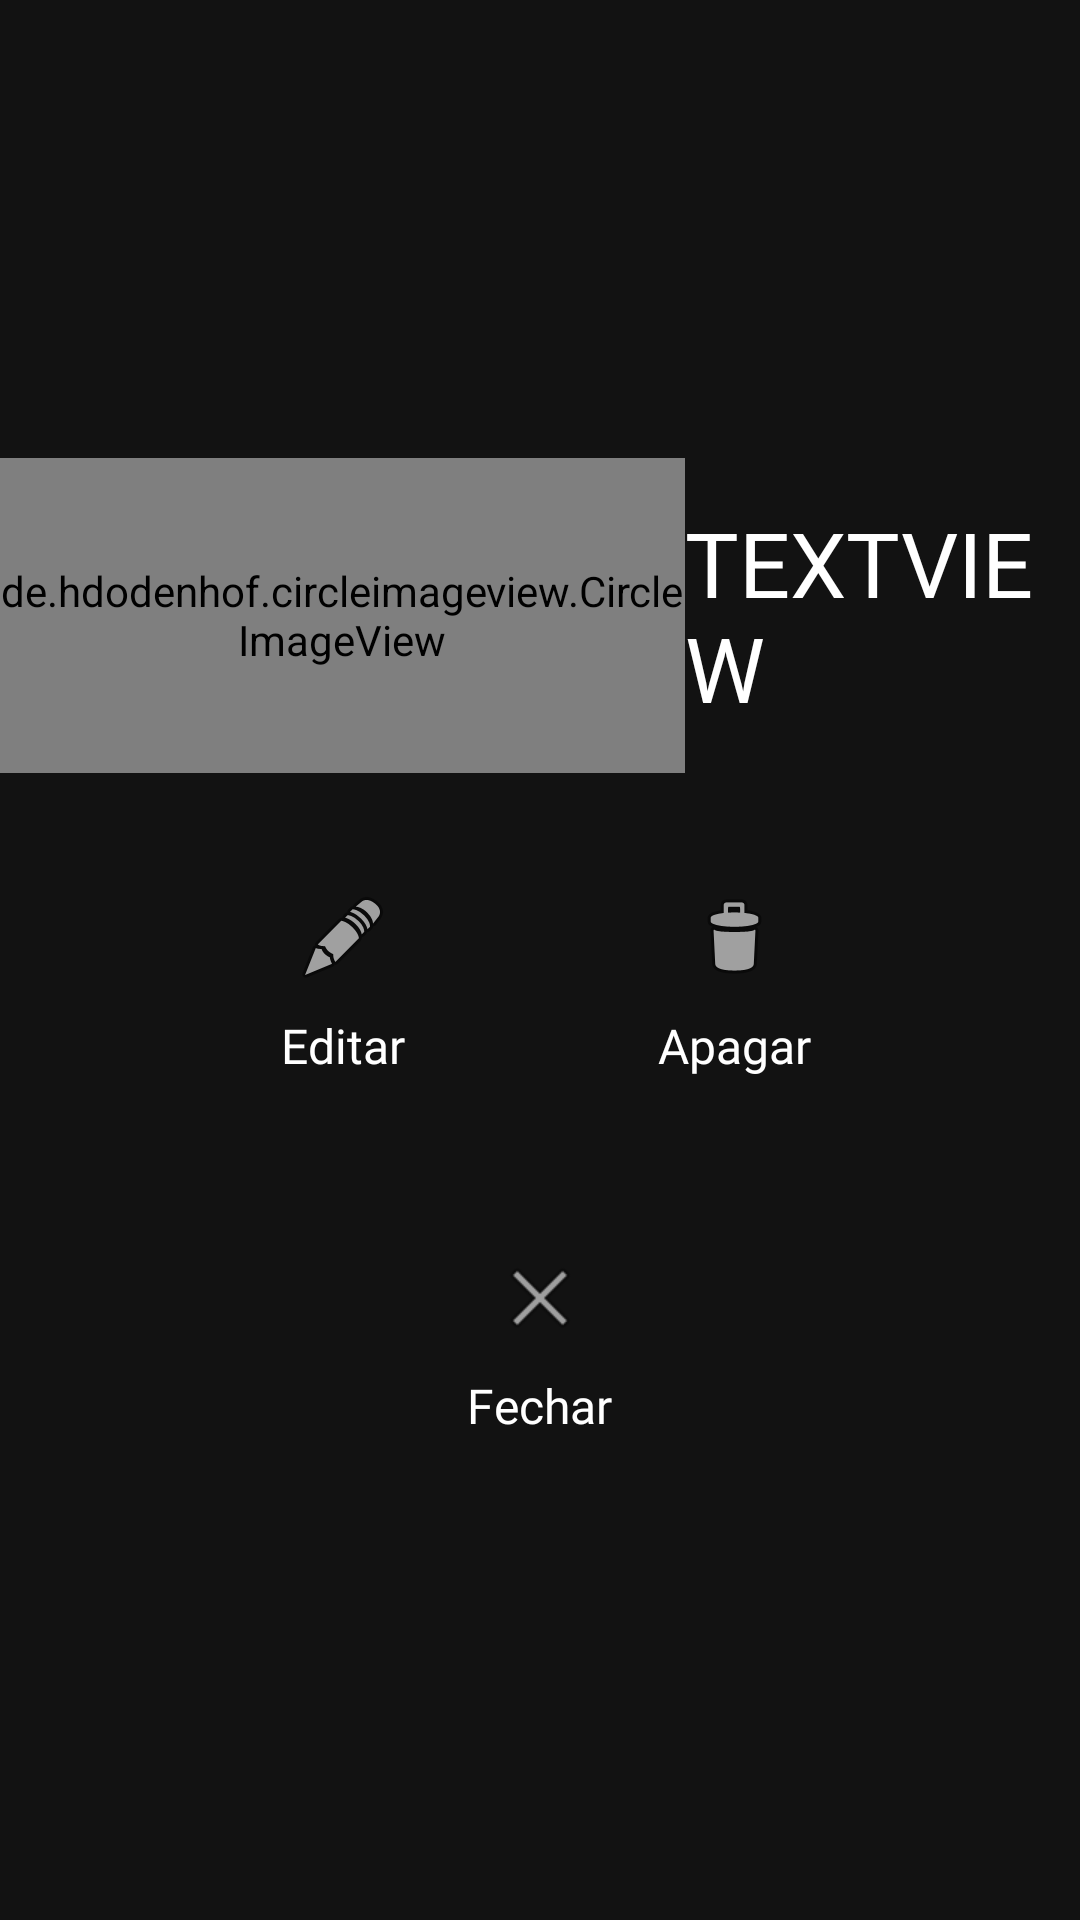

Icon click points for this 1080x1920 phone screenshot, format (x,y):
close clear cancel: (540,1298)
delete: (734,936)
